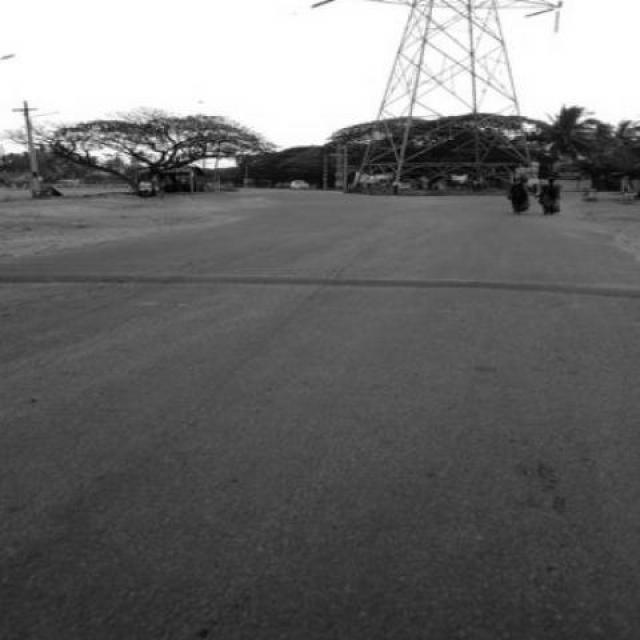Pothole: (498, 459, 580, 517)
Unmarked Bump: (1, 270, 639, 306)
